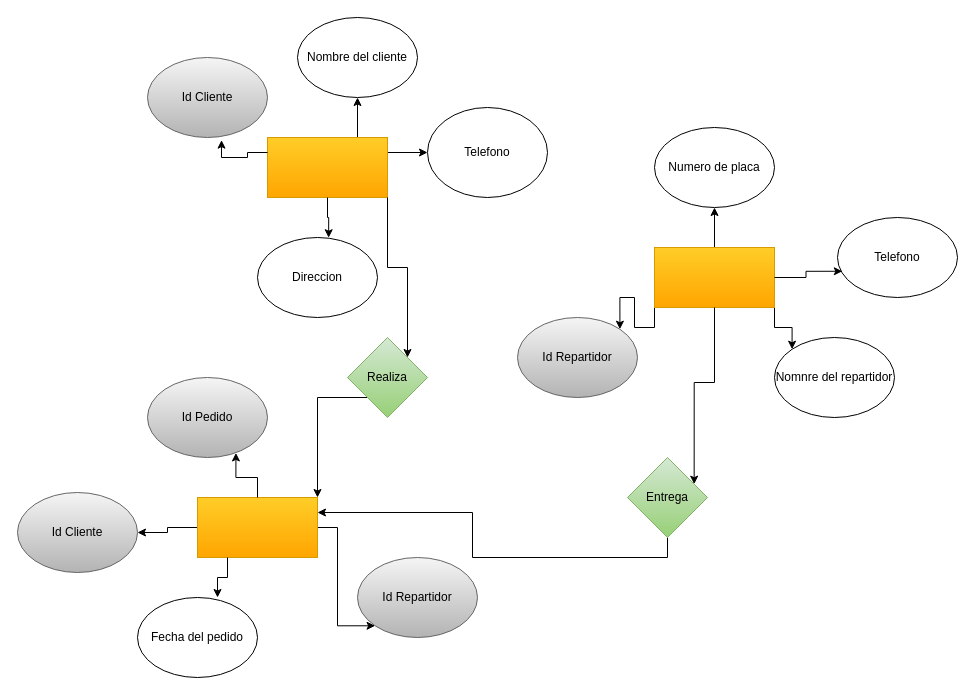
Image size: 975x695. Some labels were removed from this diagram. Each missing label, with the centre of its shape:
"Cliente" goes at point (327, 167).
"Pedido" goes at point (257, 527).
"Repartidor" goes at point (714, 277).
